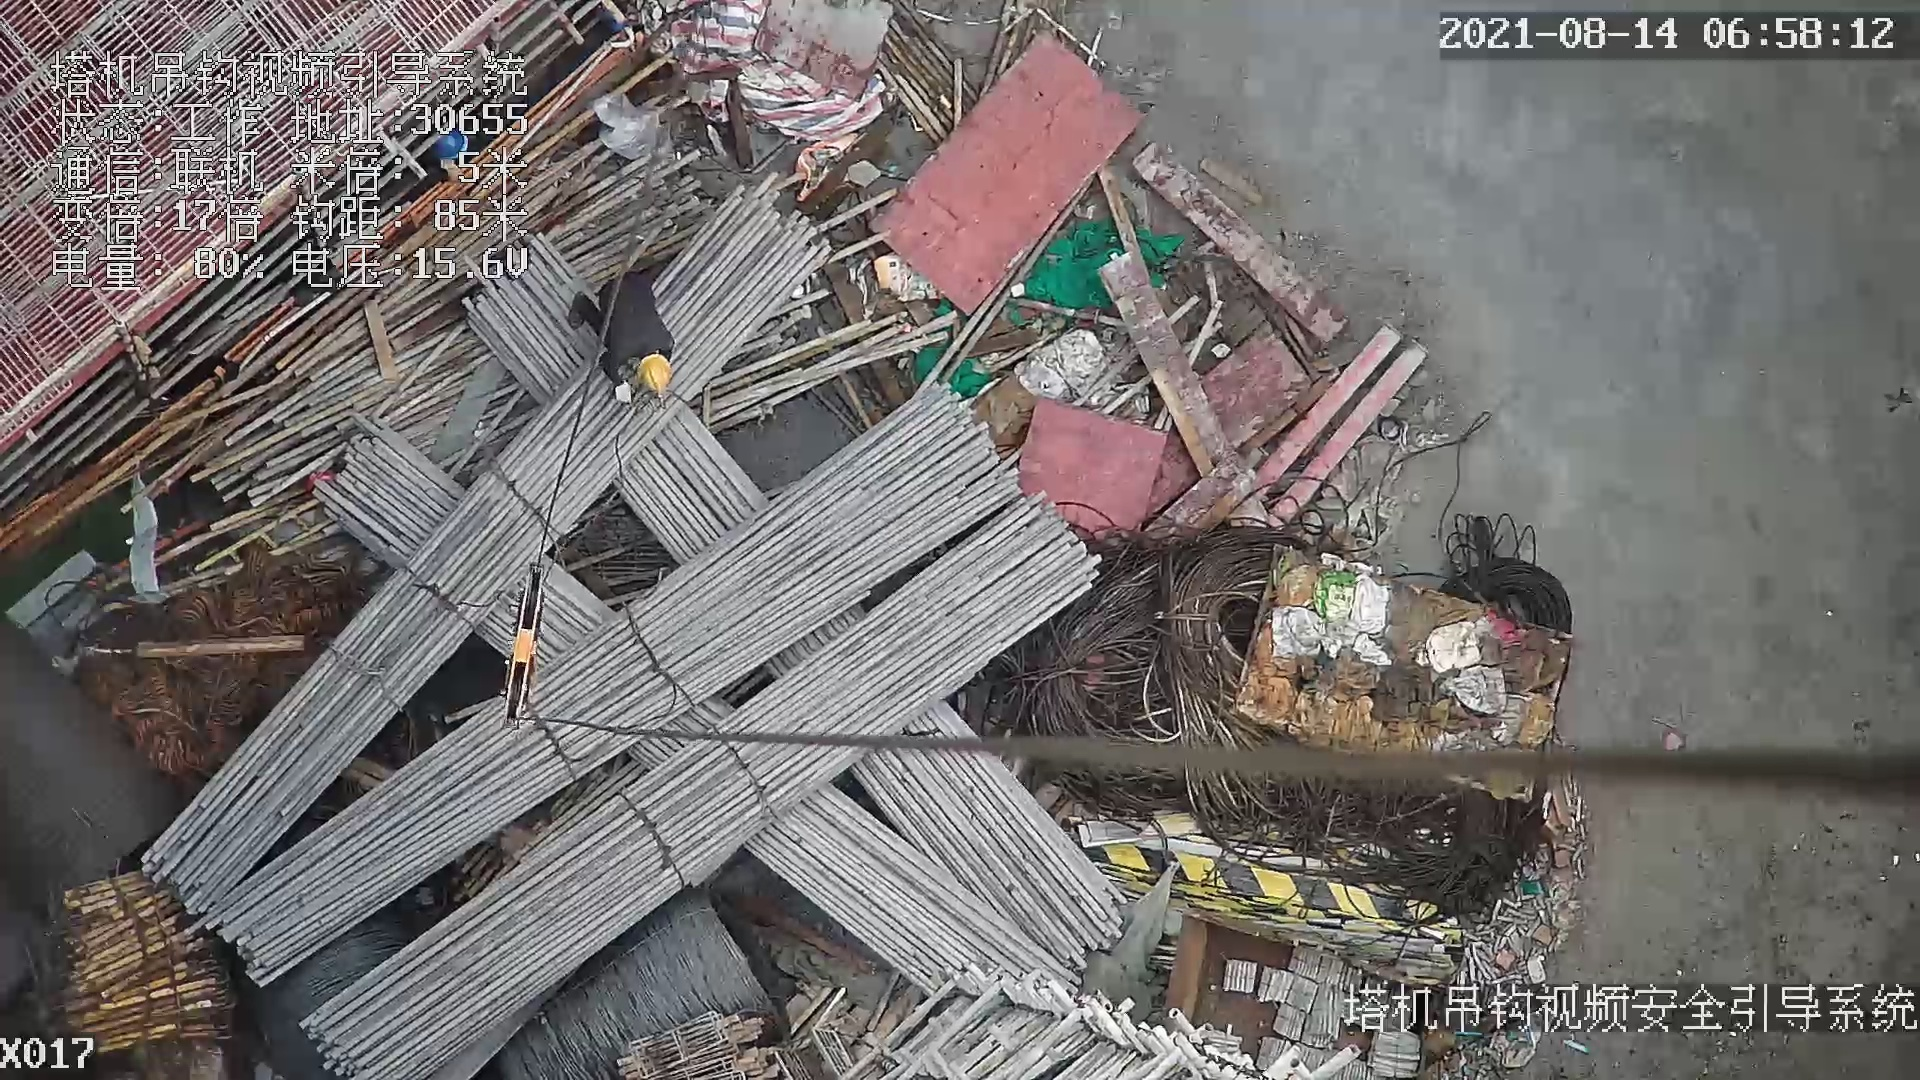helmet: (637, 353, 672, 396)
hook: (492, 556, 553, 730)
person: (565, 274, 676, 410)
rebar: (136, 180, 832, 915), (202, 387, 1025, 987), (304, 499, 1097, 1080), (746, 780, 1086, 991), (847, 706, 1121, 965)
scaffold: (61, 868, 233, 1054)
